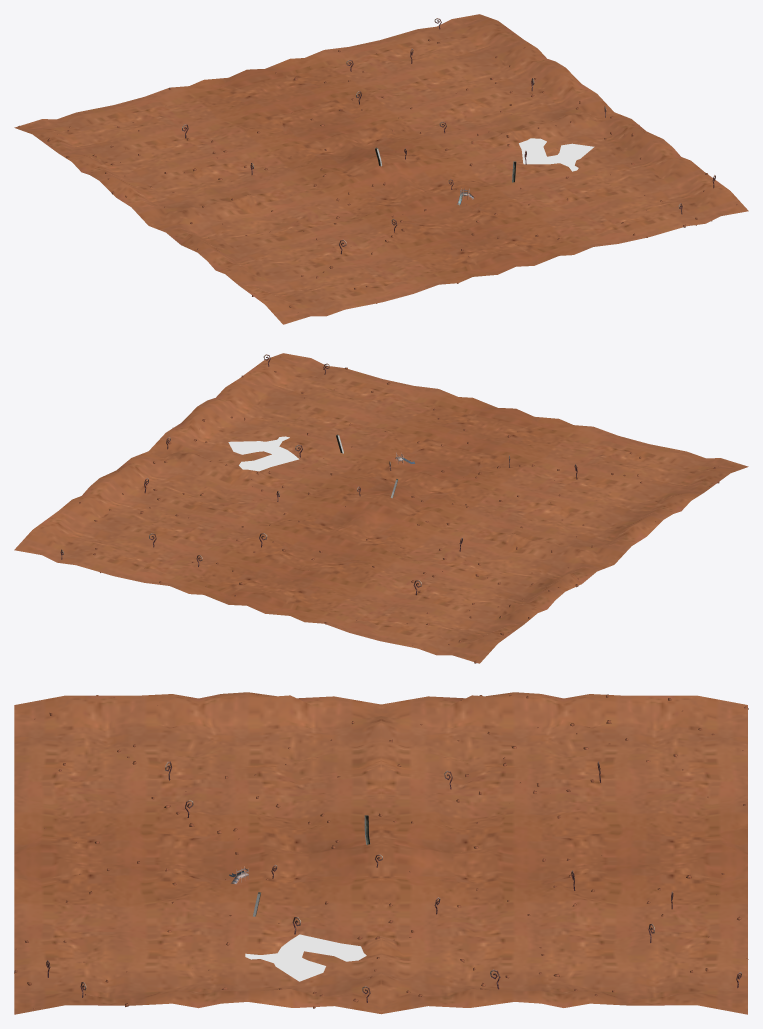
File: mars.glb
The picture shows the model from 3 angles, top to bottom: view 1: azimuth 30°, elevation 25°; view 2: azimuth 150°, elevation 25°; view 3: azimuth 270°, elevation 25°; orthographic projection. The views are drawn at different scales.
Parts seen in each view (by area): view 1: surface, water, rocks, plants; view 2: surface, water, rocks, plants; view 3: surface, water, rocks, plants.
Part boxes in pixels (box(x1,y1,x2,y2)): surface: box(14, 14, 748, 324); water: box(519, 138, 594, 171); rocks: box(18, 36, 738, 313); plants: box(182, 18, 715, 254); surface: box(14, 353, 748, 663); water: box(228, 436, 298, 471); rocks: box(79, 356, 719, 663); plants: box(60, 354, 577, 595); surface: box(14, 692, 747, 1014); water: box(245, 934, 366, 981); rocks: box(14, 694, 748, 1009); plants: box(46, 761, 741, 1002).
Bounding box in the file's own units: 229 × 15.99 × 229.
8 materials, 6 textured.
